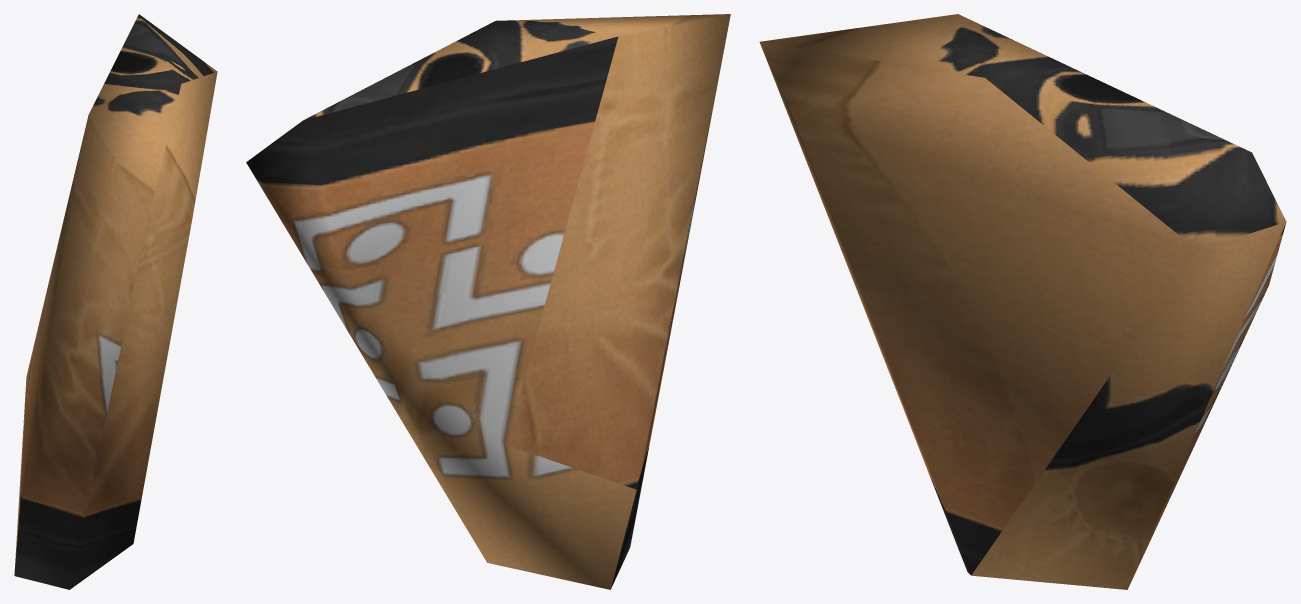
File: dest_nt_nuked_female_02_arm_left_LOD3.obj
3 renders of one model, left to right at view 1: azimuth 30°, elevation 25°; view 2: azimuth 150°, elevation 25°; view 3: azimuth 270°, elevation 25°, orthographic. The views are drawn at different scales.
Visible parts, largest first — view 1: mtl_nt_2020_manne_fem01_dress1; view 2: mtl_nt_2020_manne_fem01_dress1; view 3: mtl_nt_2020_manne_fem01_dress1.
Boxes of the visible parts, box(x1,y1,x2,y2) form: mtl_nt_2020_manne_fem01_dress1: box(14, 14, 217, 589); mtl_nt_2020_manne_fem01_dress1: box(246, 14, 730, 589); mtl_nt_2020_manne_fem01_dress1: box(759, 14, 1286, 589).
Size of the model in its own units: 21.51 by 36.49 by 30.2.
